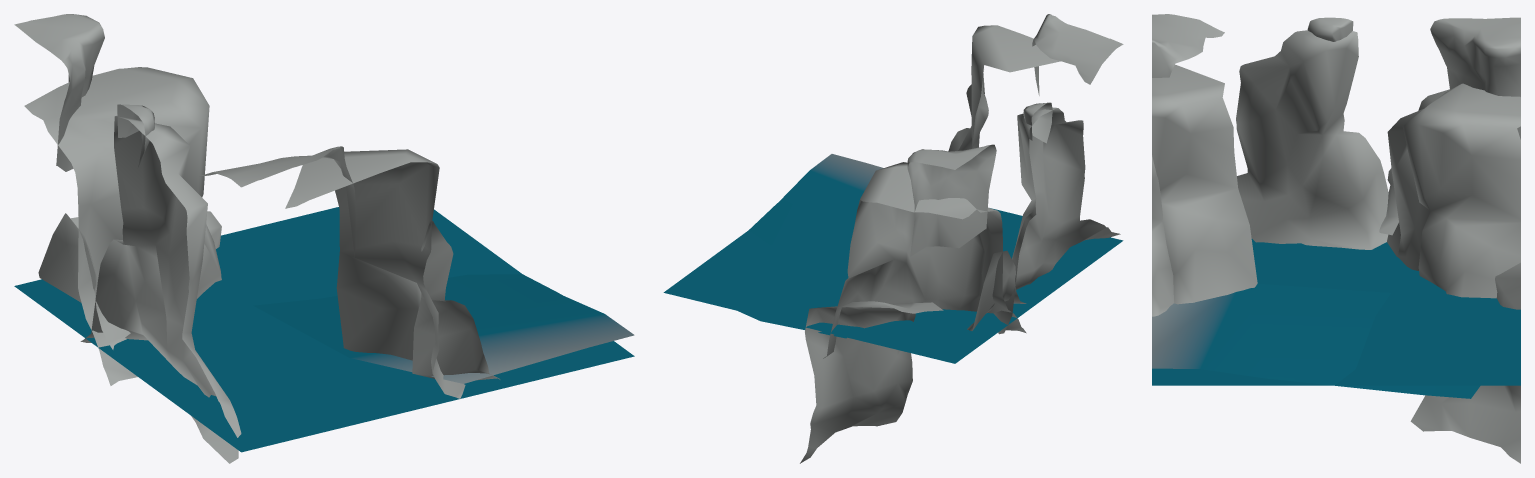
The picture shows the model from 3 angles, left to right: view 1: azimuth 30°, elevation 25°; view 2: azimuth 150°, elevation 25°; view 3: azimuth 270°, elevation 25°; orthographic projection. The views are drawn at different scales.
Visible parts, largest first — view 1: G:\FFXIV-MapTools\exports\s1f3\bg\ffxiv\sea_s1\fld\s1f3\bgpl (×7); view 2: G:\FFXIV-MapTools\exports\s1f3\bg\ffxiv\sea_s1\fld\s1f3\bgpl (×7); view 3: G:\FFXIV-MapTools\exports\s1f3\bg\ffxiv\sea_s1\fld\s1f3\bgpl (×8).
Part boxes in pixels (x1=…): G:\FFXIV-MapTools\exports\s1f3\bg\ffxiv\sea_s1\fld\s1f3\bgpl (×7): x1=14, y1=14, x2=634, y2=463; G:\FFXIV-MapTools\exports\s1f3\bg\ffxiv\sea_s1\fld\s1f3\bgpl (×7): x1=663, y1=14, x2=1123, y2=463; G:\FFXIV-MapTools\exports\s1f3\bg\ffxiv\sea_s1\fld\s1f3\bgpl (×8): x1=1152, y1=14, x2=1520, y2=463.
Bounding box in the file's own units: 128 × 145 × 128.
